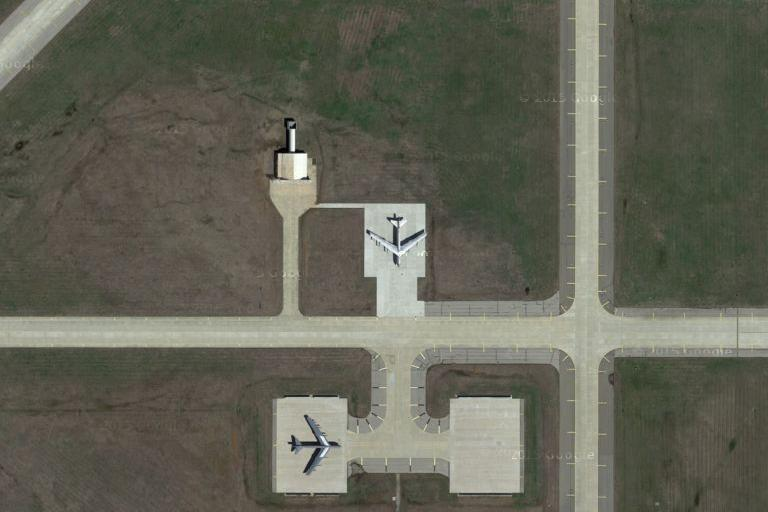B-52: (364, 211, 430, 272), (286, 414, 343, 477)
